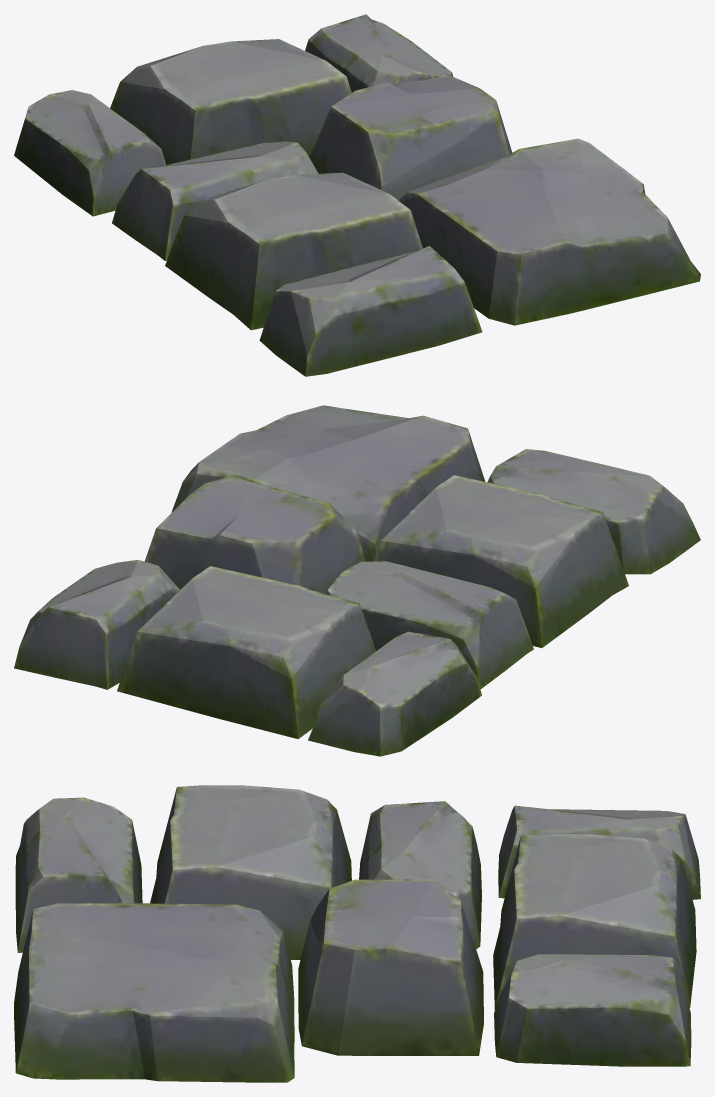
The model's file is path-square.glb.
The picture shows the model from 3 angles, top to bottom: view 1: azimuth 30°, elevation 25°; view 2: azimuth 150°, elevation 25°; view 3: azimuth 270°, elevation 25°; orthographic projection. The views are drawn at different scales.
Visible parts, largest first — view 1: RockPath_Square_Small_3; view 2: RockPath_Square_Small_3; view 3: RockPath_Square_Small_3.
Boxes of the visible parts, box(x1,y1,x2,y2) form: RockPath_Square_Small_3: box(14, 14, 700, 376); RockPath_Square_Small_3: box(14, 405, 700, 756); RockPath_Square_Small_3: box(14, 785, 700, 1082).
Size of the model in its own units: 0.8358 by 0.1736 by 1.08.
Materials: 1 (1 with a texture image).
